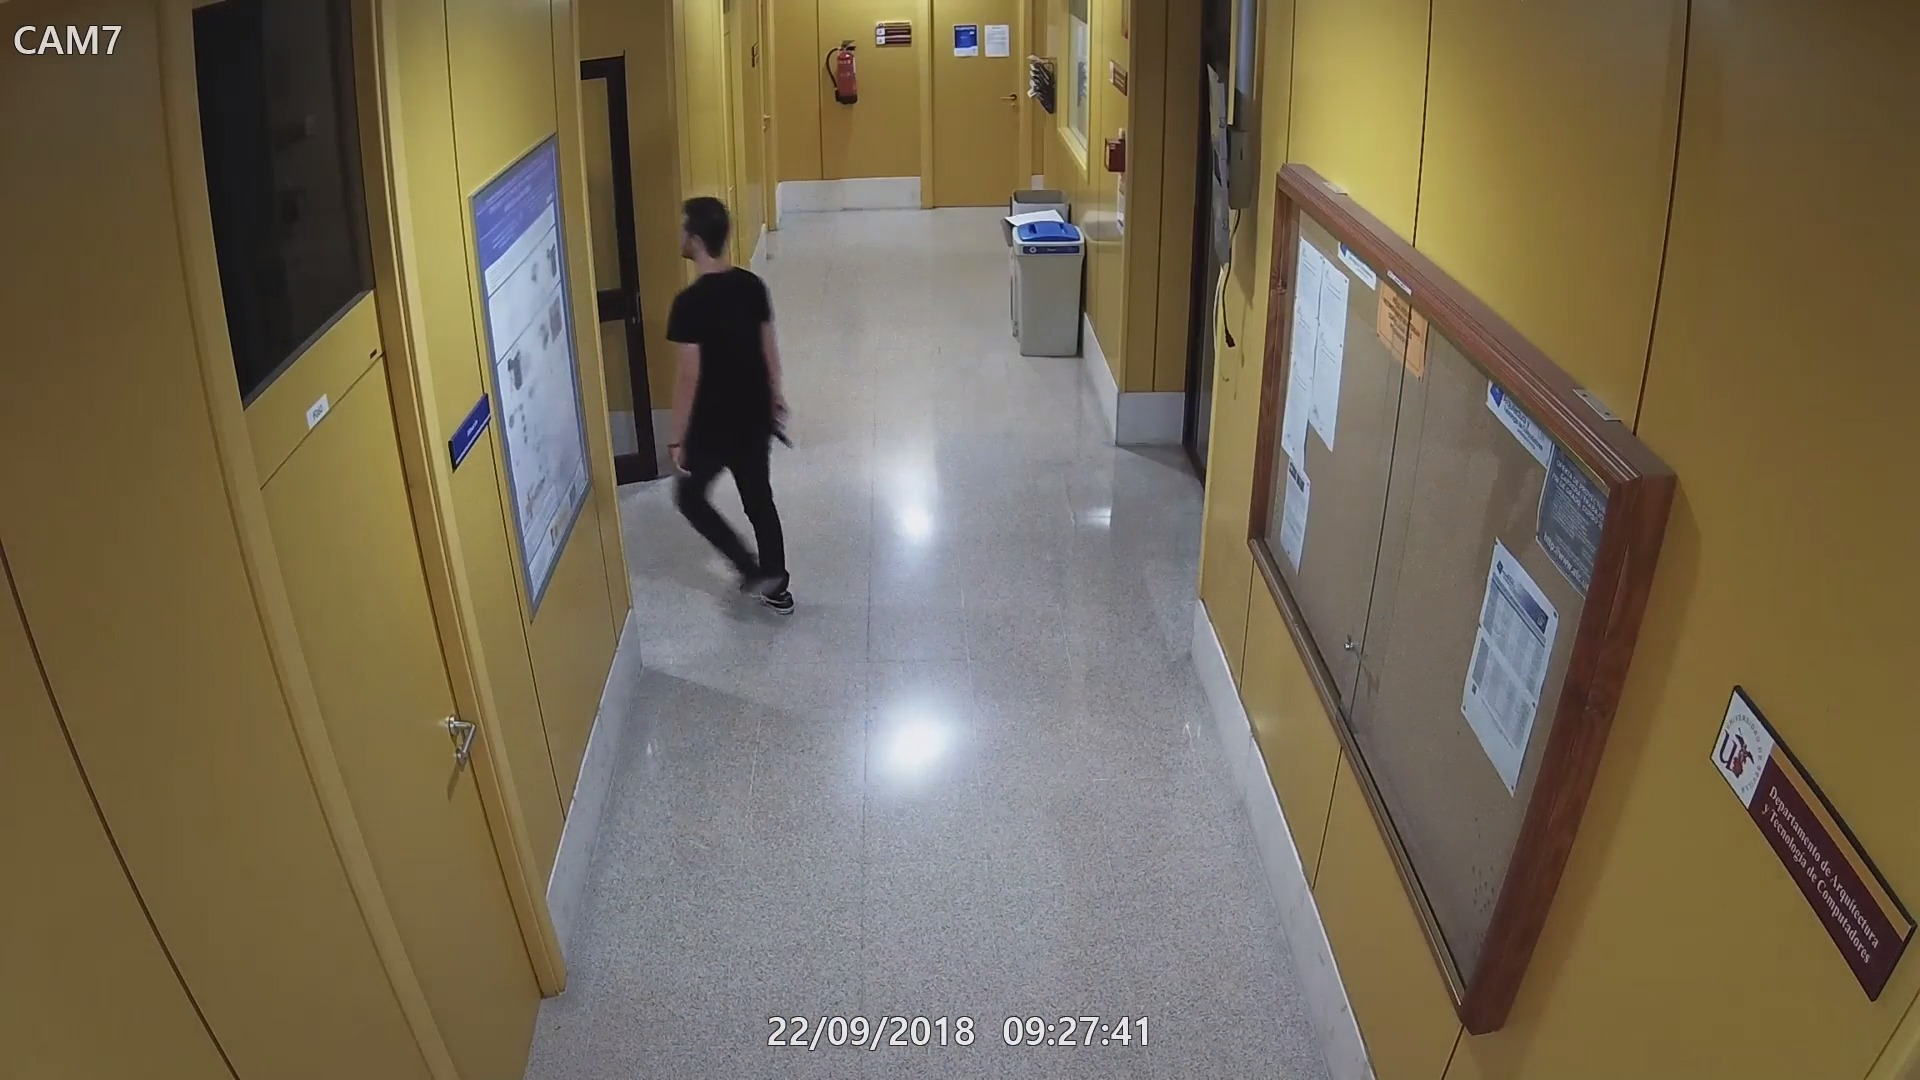pistol: (769, 400, 796, 450)
